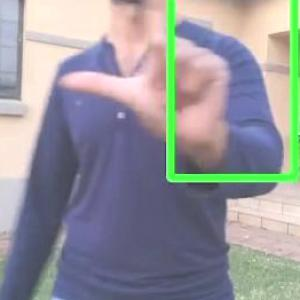land_hand: (54, 0, 238, 156)
